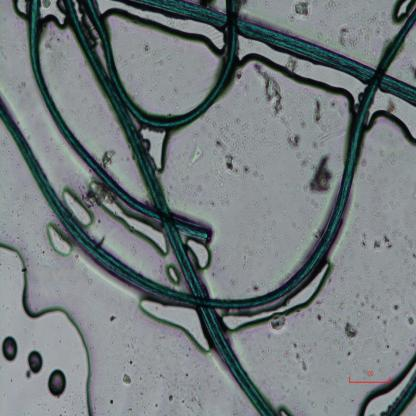Air bubble: (0, 232, 104, 416), (238, 50, 354, 117), (223, 262, 330, 332), (102, 8, 223, 64), (93, 185, 168, 258), (136, 299, 212, 357), (373, 92, 416, 158), (360, 362, 412, 414), (45, 221, 73, 258), (185, 238, 213, 274), (40, 1, 68, 30), (45, 367, 67, 400), (1, 333, 18, 363), (393, 0, 416, 22), (27, 347, 44, 375), (13, 0, 29, 23), (166, 265, 180, 286), (277, 406, 289, 415)
Background material: (252, 67, 284, 118), (62, 186, 96, 230), (333, 21, 371, 59), (140, 127, 170, 175), (278, 108, 305, 156), (307, 152, 335, 196), (77, 181, 118, 209), (98, 134, 122, 170), (309, 92, 329, 132), (374, 300, 404, 326), (290, 340, 308, 374), (221, 150, 241, 175), (342, 318, 362, 342), (187, 143, 206, 168), (269, 313, 288, 338), (210, 127, 232, 148), (399, 61, 416, 87), (358, 289, 378, 309), (294, 0, 312, 21), (372, 231, 390, 252), (242, 155, 254, 179), (355, 230, 371, 247), (119, 372, 133, 391), (382, 97, 397, 113), (342, 347, 354, 365), (314, 312, 326, 326), (404, 311, 414, 327), (164, 392, 174, 403), (362, 153, 368, 168), (111, 314, 119, 323), (410, 254, 416, 262)
Microfibre: (0, 11, 416, 311), (61, 0, 276, 416), (28, 0, 213, 244), (143, 2, 416, 108), (83, 0, 240, 132), (389, 376, 416, 415)
